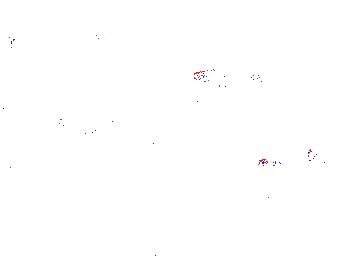red belly glassfish: (258, 156, 298, 171), (304, 142, 317, 161)
redtail glassfish: (59, 114, 157, 147), (192, 68, 267, 88), (109, 77, 156, 97)
